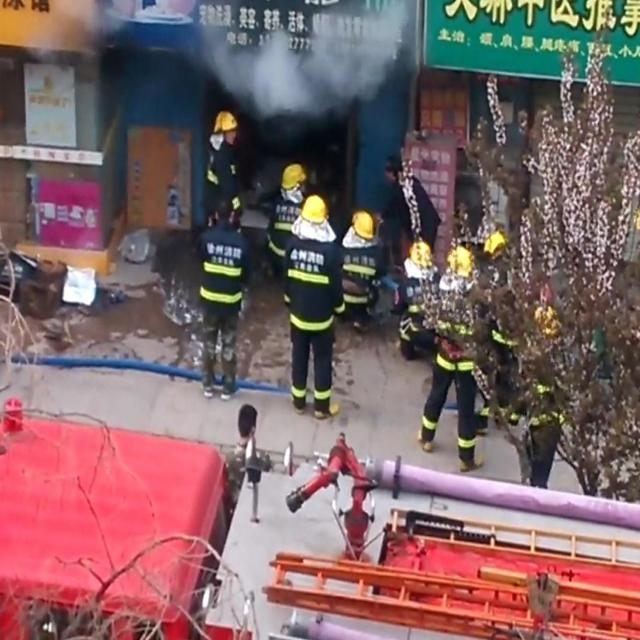Smoke: (195, 0, 408, 116)
